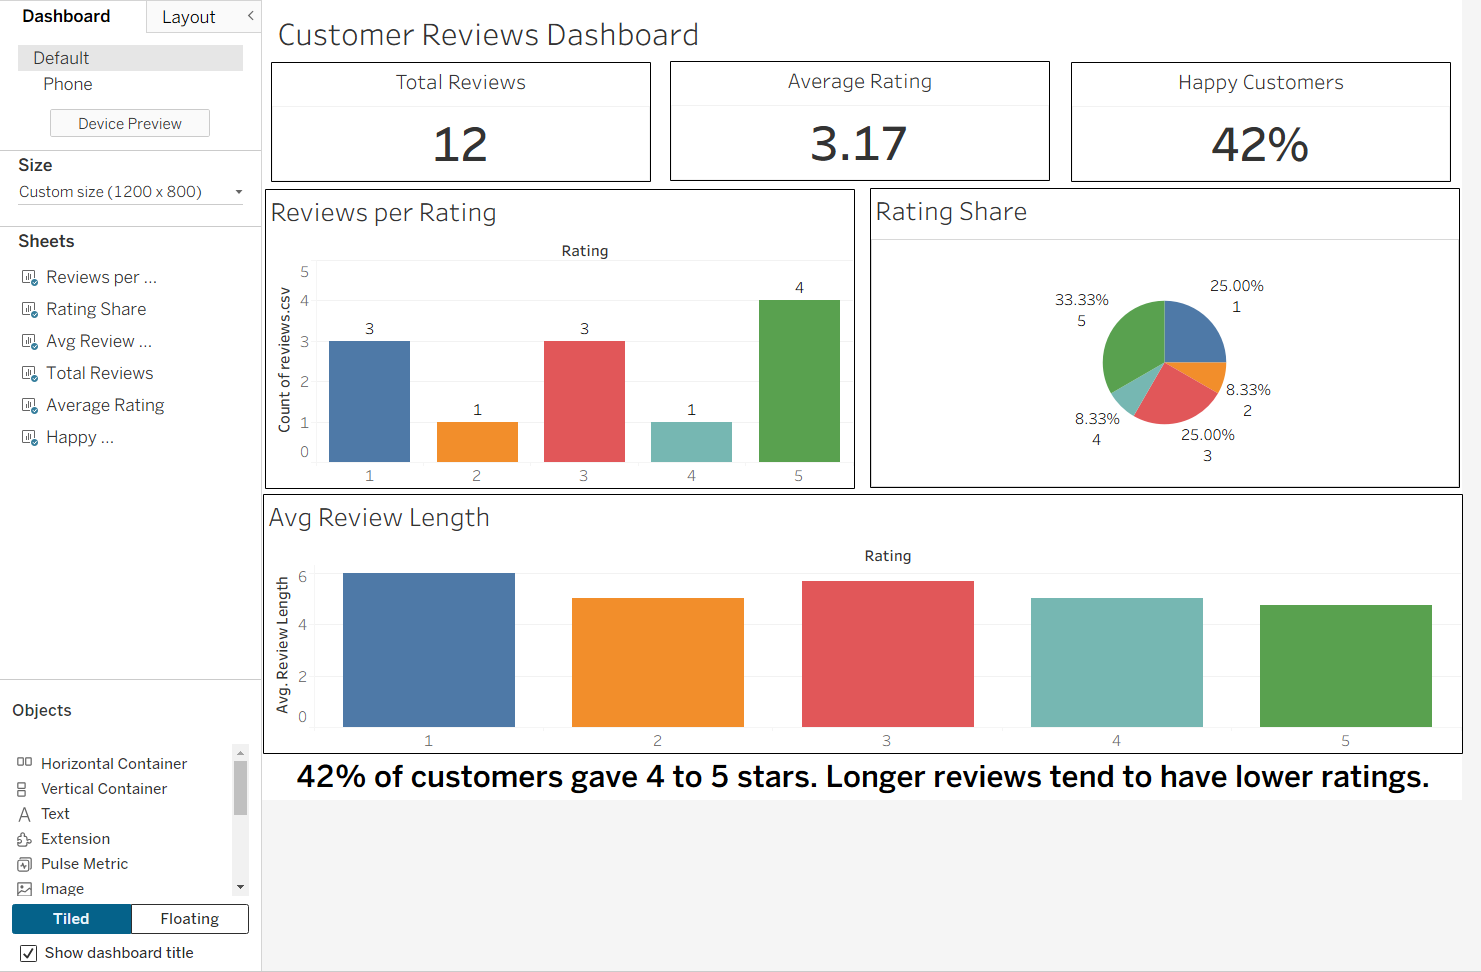

The page's visual inventory and layout, read from the dashboard file:
{"tool":"tableau","page":{"name":"Customer Reviews Dashboard","canvas":[1100,700],"ordinal":0},"visuals":[{"type":"worksheet","title":"Reviews per Rating","mark":"Bar","rows":["review_id"],"cols":["rating"],"box":[11,14,528,322]},{"type":"worksheet","title":"Rating Share","mark":"Pie","box":[561,14,528,322]},{"type":"worksheet","title":"Avg Review Length by Rating","mark":"Bar","rows":["Calculation_1000000000000001"],"cols":["rating"],"box":[11,357,1078,322]}]}

Visuals, with their boxes on the page's 1100x700 design canvas (x1, y1, x2, y2). These are canvas units, not pixel positions in the 1481x972 screenshot, which may show the page scaled, cropped or inside an application window:
"Reviews per Rating" worksheet (Bar marks): detection(11, 14, 539, 336)
"Rating Share" worksheet (Pie marks): detection(561, 14, 1089, 336)
"Avg Review Length by Rating" worksheet (Bar marks): detection(11, 357, 1089, 679)
